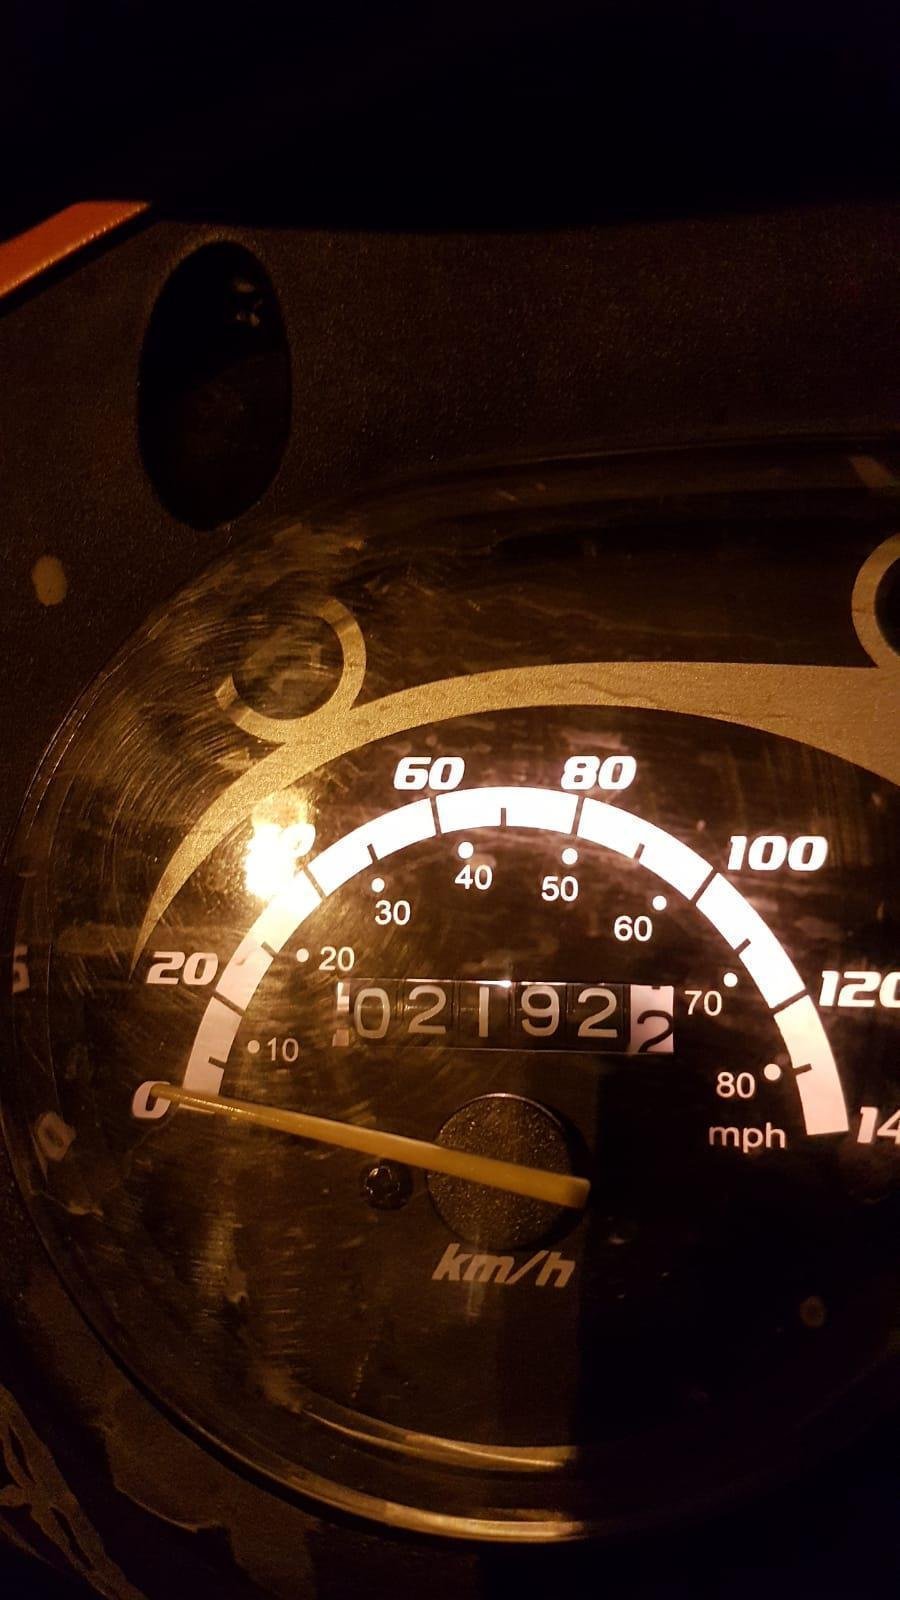0: (351, 985, 396, 1042)
1: (473, 978, 497, 1046)
2: (404, 979, 452, 1043), (576, 984, 619, 1047), (634, 1009, 673, 1057)
9: (516, 979, 562, 1040)
odometer: (325, 973, 681, 1069)
